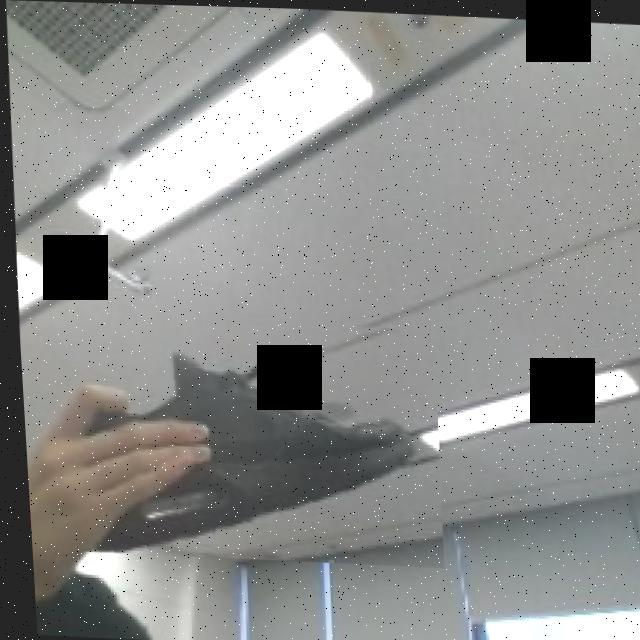shoe: (38, 302, 441, 566)
